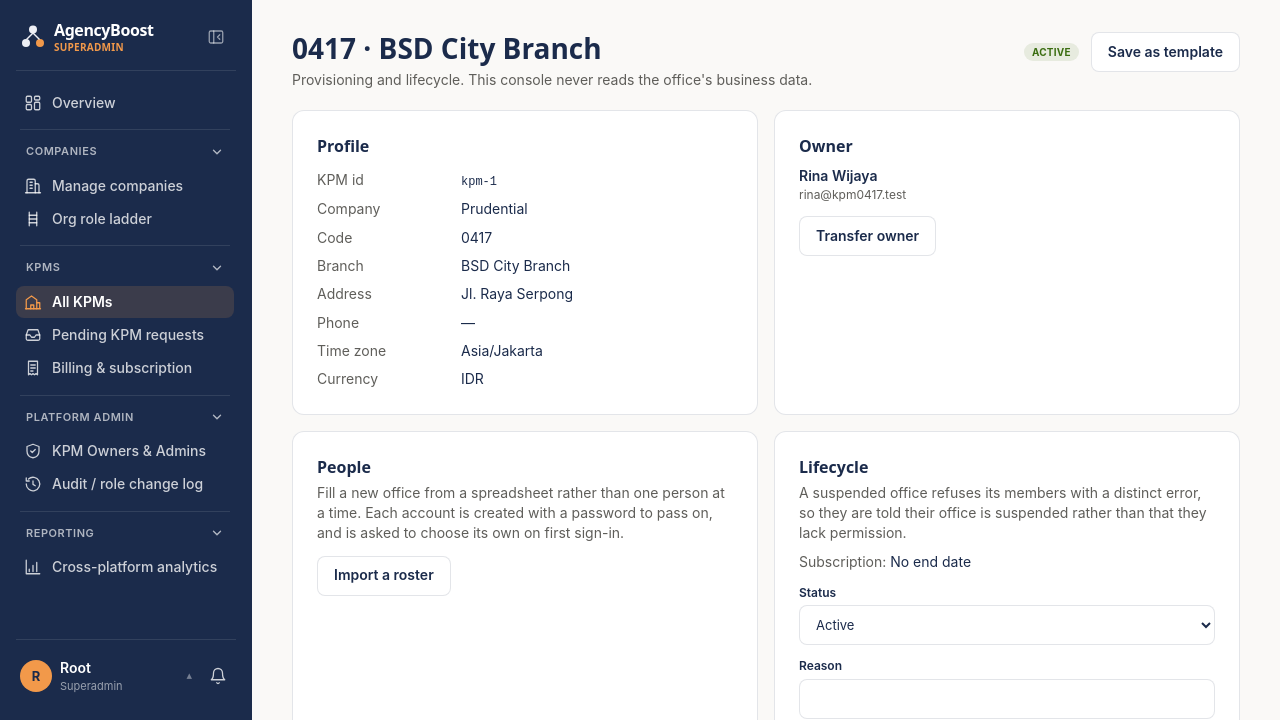
it: tenant detail › Save as template (P13.2-T7) › asks for a name, and says a taken one under it
Click the button "Save as template". click: (1165,52)
box: [1091,32,1240,72]
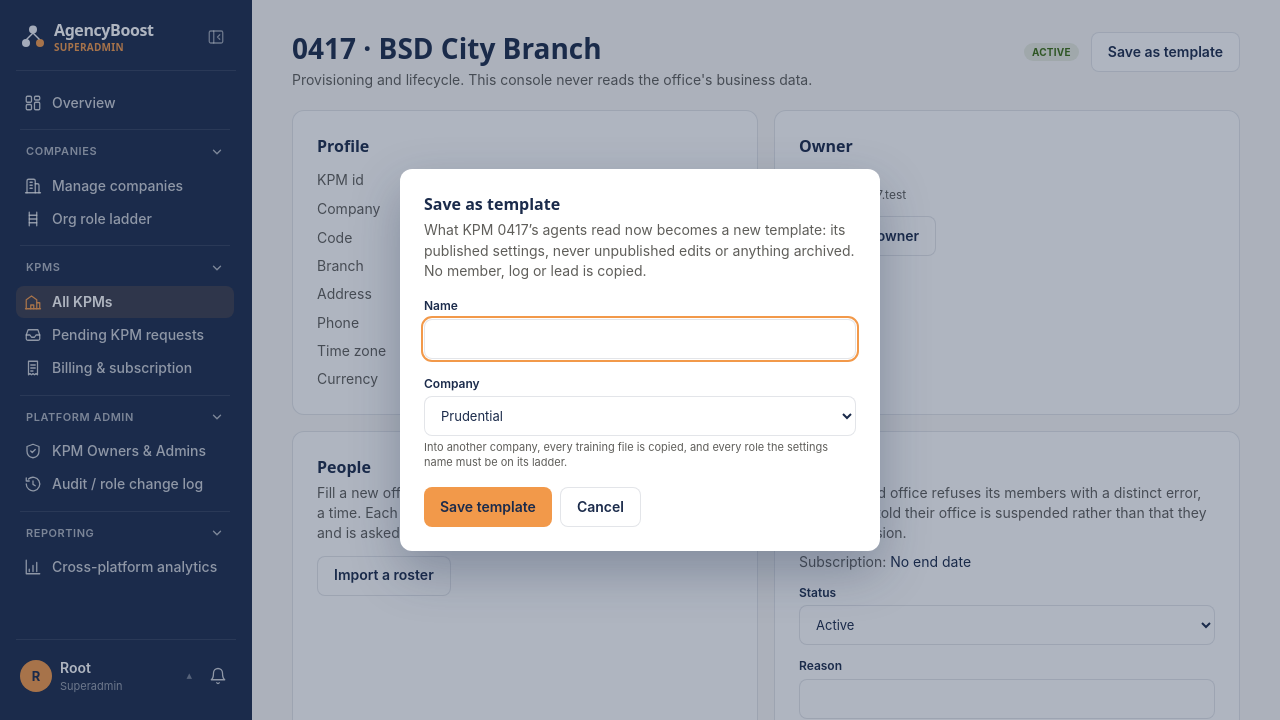
Now the dropdown labelled "Company" is shown, box [424,396,856,436]
Click the button "Save template". click: (488,507)
box: [424,487,552,527]
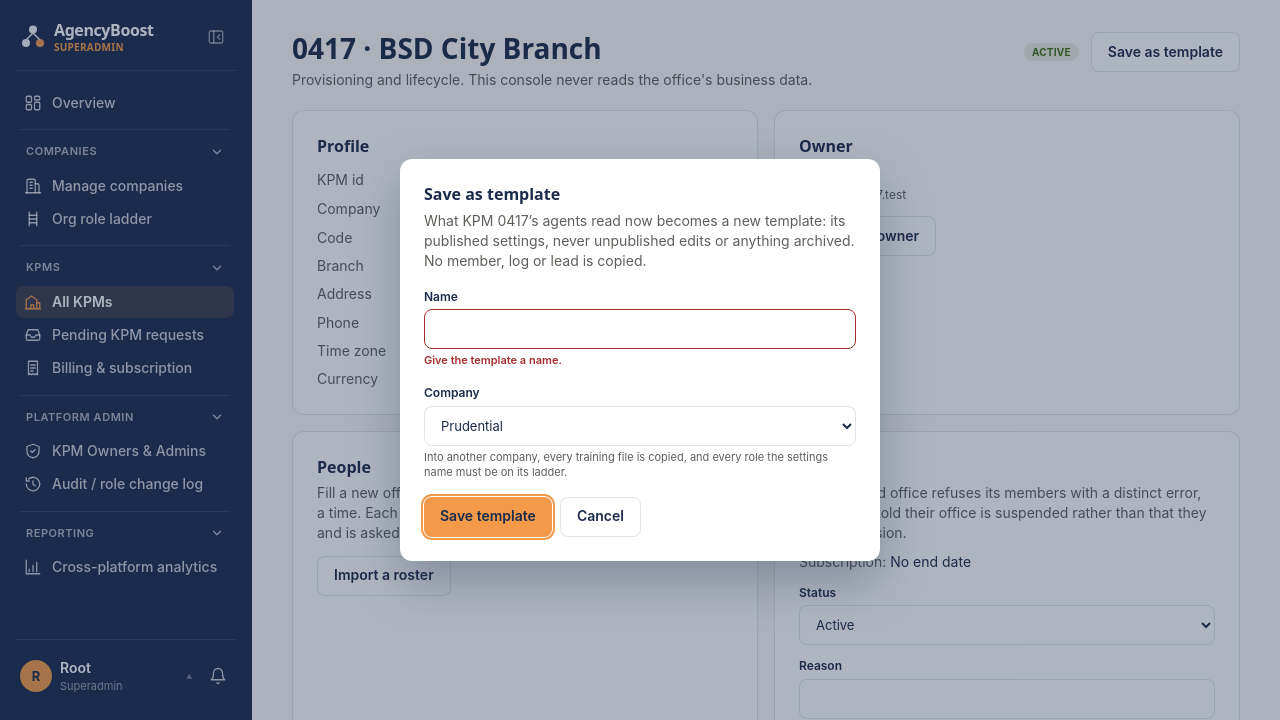
Now the text "Give the template a name." is shown, box [424,353,562,367]
Type "BSD" into the field labelled "Name". click: (640,329)
box: [424,309,856,349]
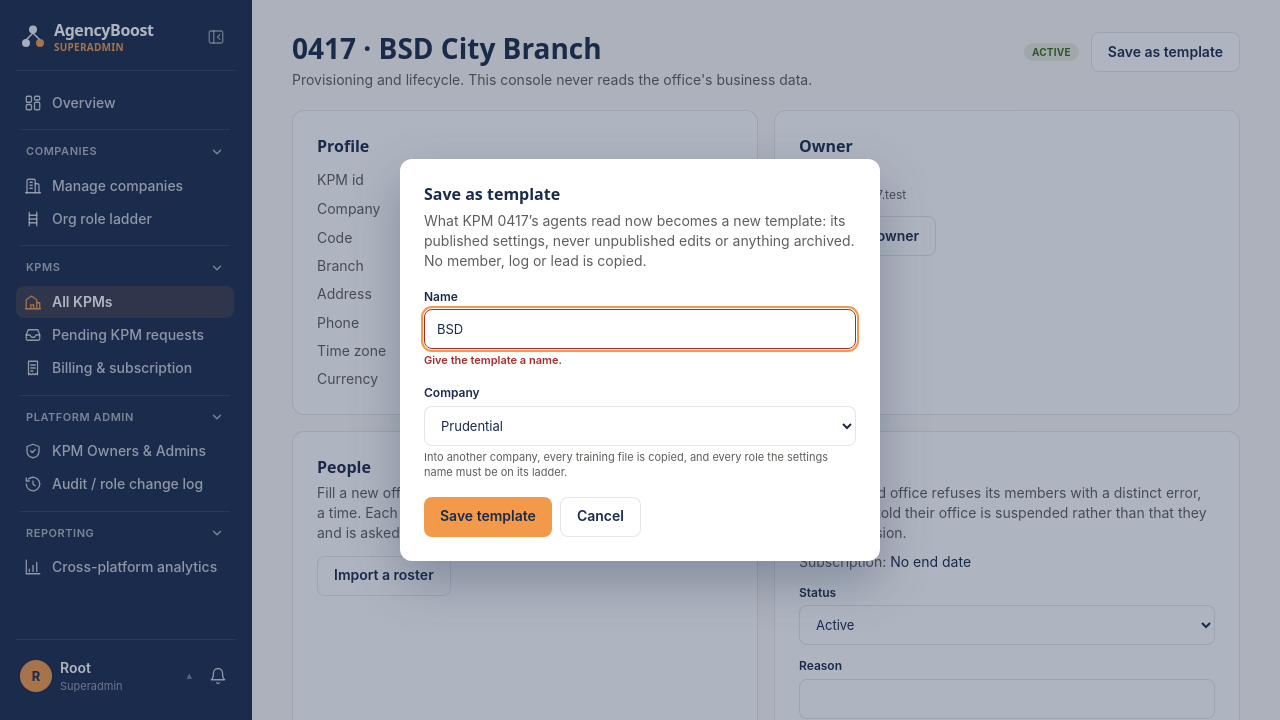
Click the button "Save template". click: (488,516)
box: [424,496,552,536]
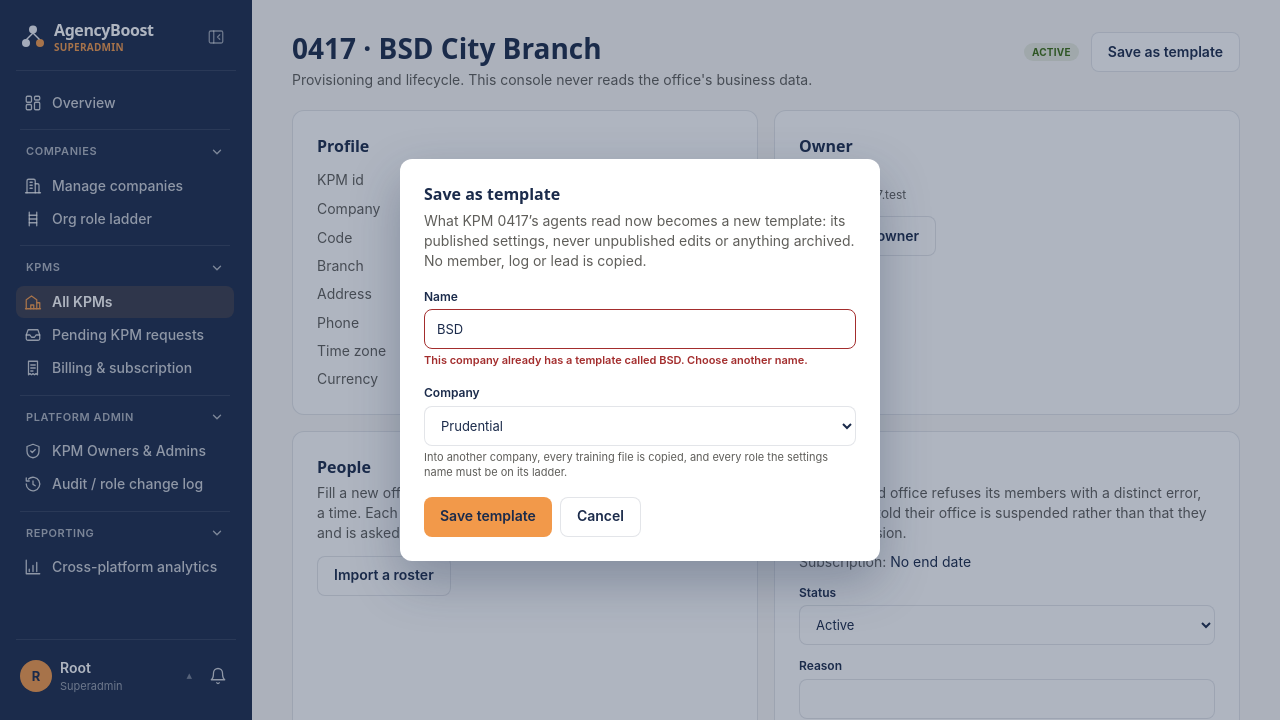
Now the text "This company already has a template called BSD. Choose another name." is shown, box [424,353,856,368]
